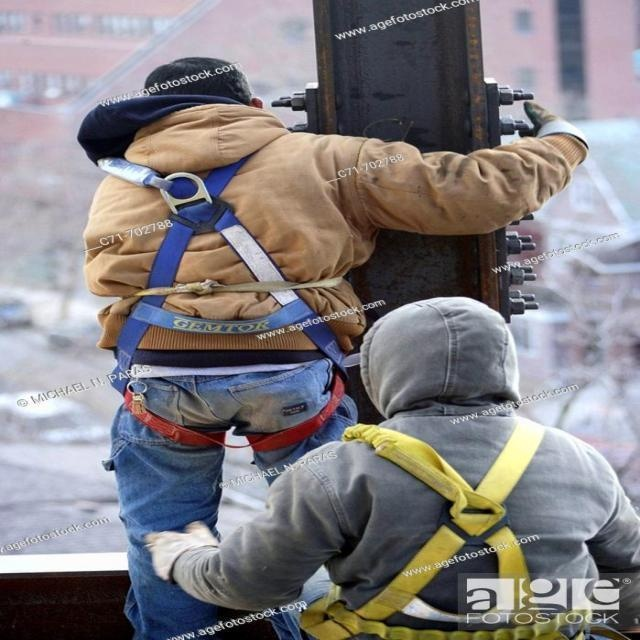Arnes_seguridad: (95, 135, 350, 464), (319, 415, 589, 640)
